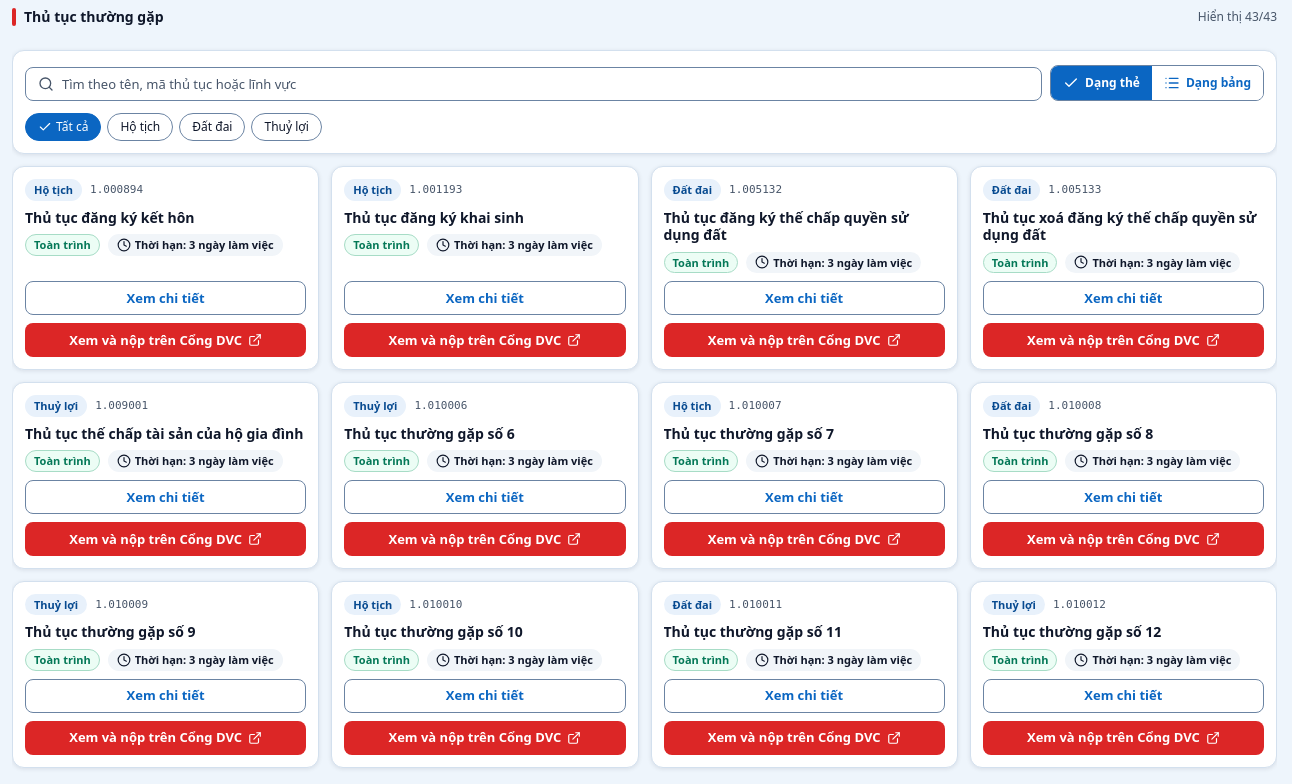
Test: KhoiThuongGap: tìm kiếm và chip › chọn chip "Đất đai" rồi gõ "the chap" → chỉ còn mục Đất đai có "thế chấp"; số đếm đổi (AC-2)
The width and height of the screenshot is (1292, 784).
Check: the heading "Thủ tục thường gặp" is shown, box [24,8,164,26]
Click the button "Đất đai": click(212, 127) [179,113,246,141]
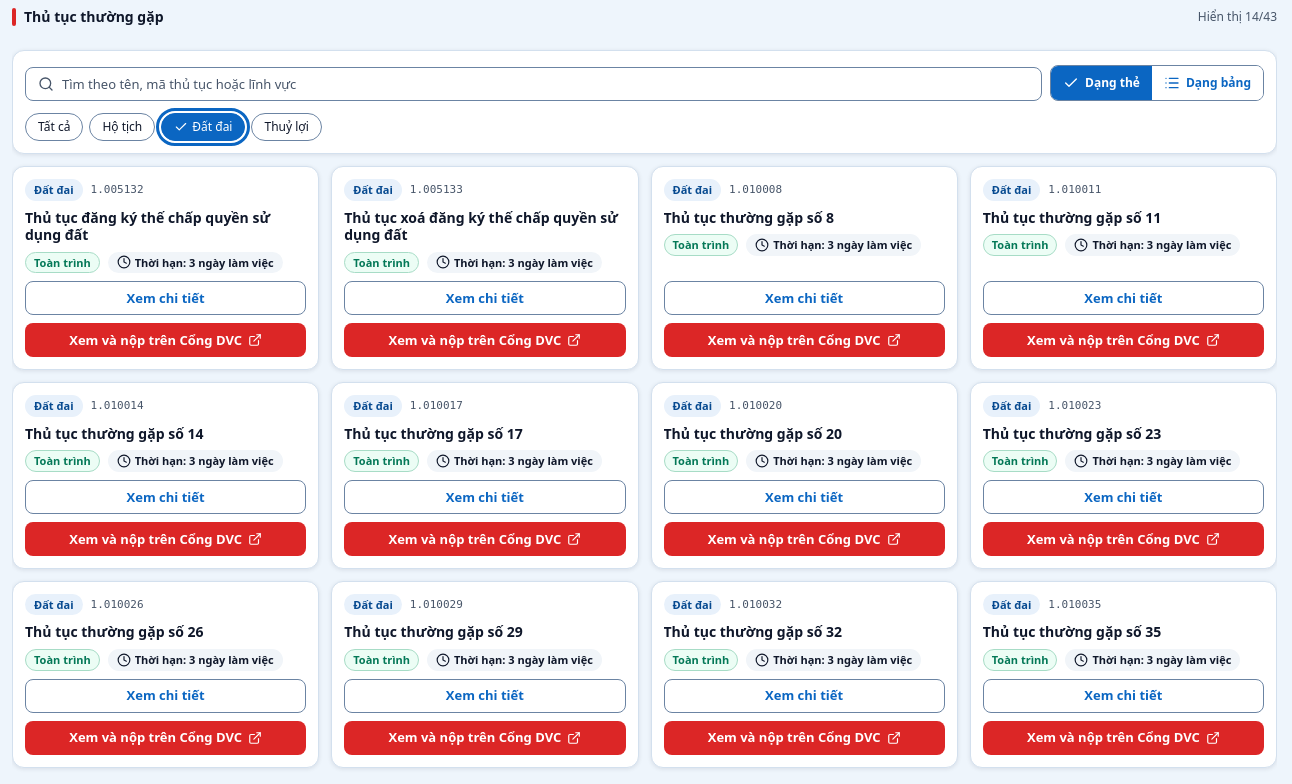
Click the search field labelled "Tìm theo tên, mã thủ tục hoặc lĩnh vực": click(534, 84) [26,68,1041,100]
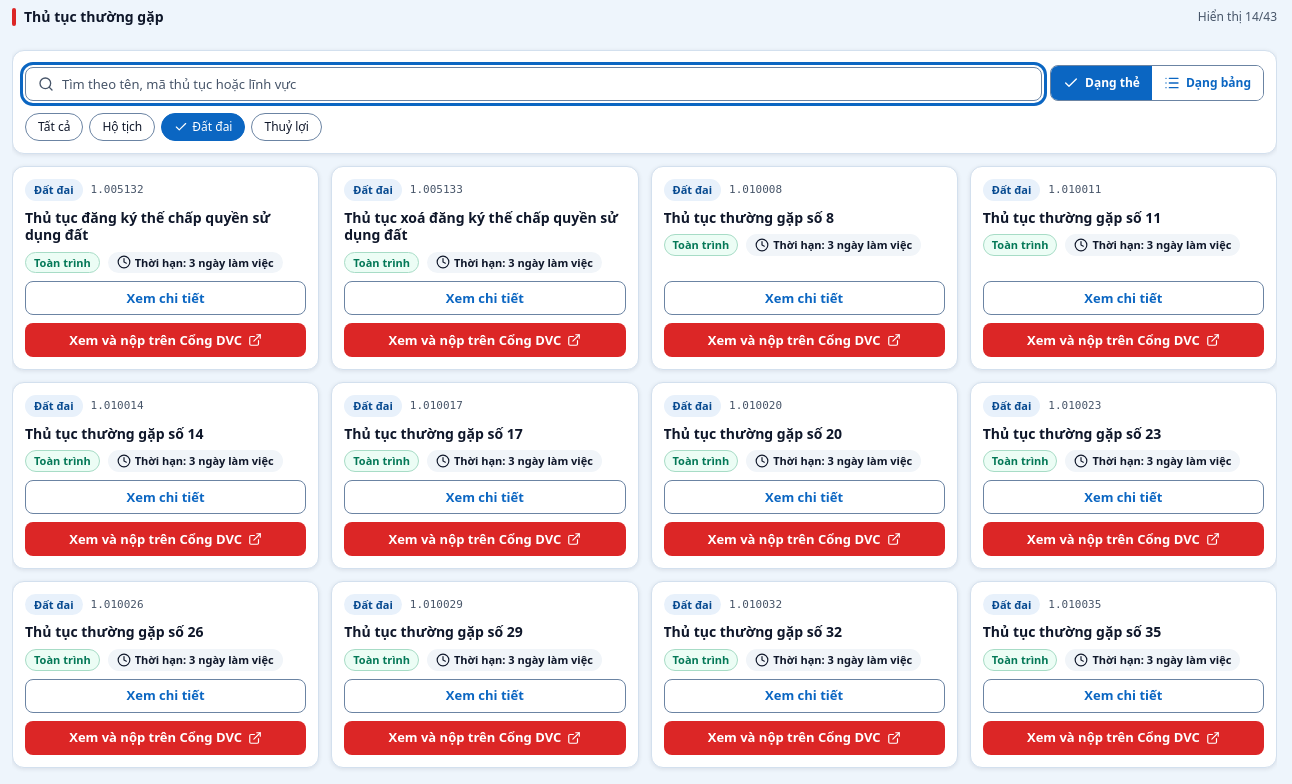
Type keys "the chap"
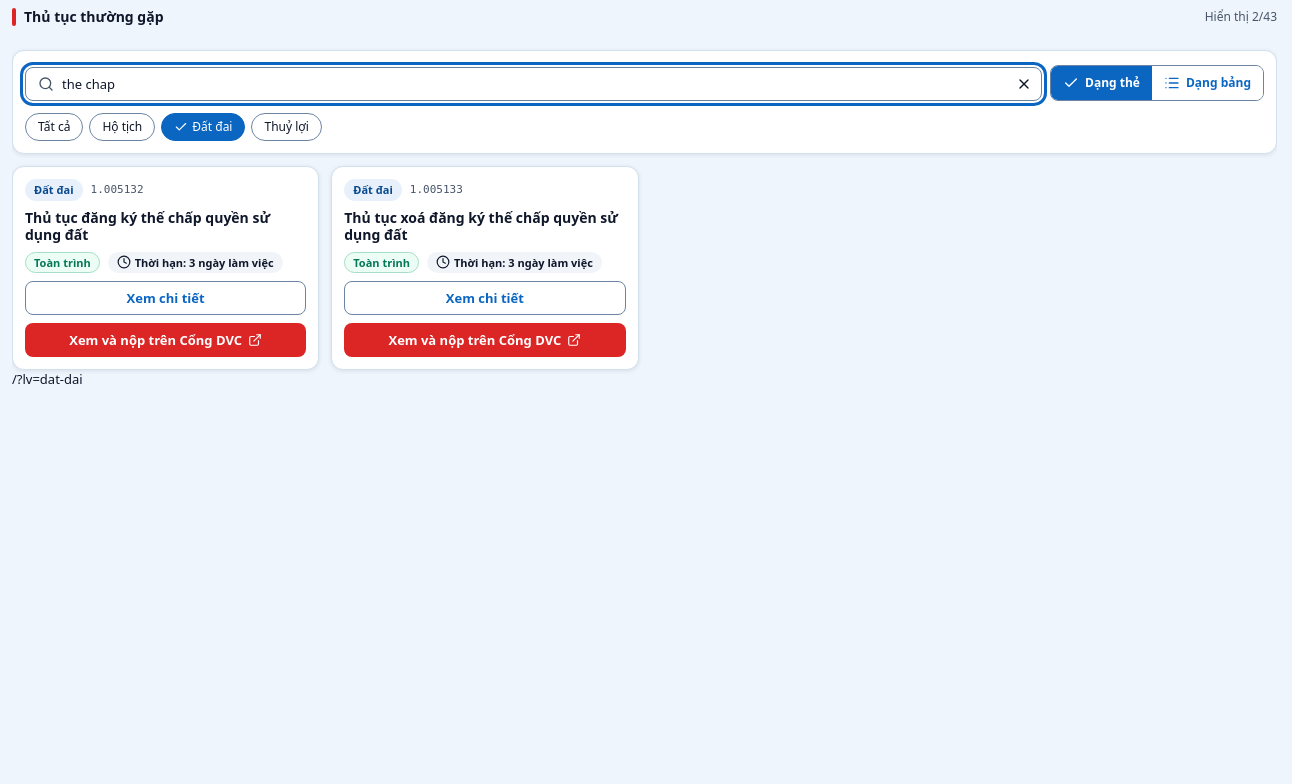
Check: the text "Hiển thị 2/43" is shown, box [1205,9,1277,25]
Click the button "Tất cả": click(54, 127) [25,113,83,141]
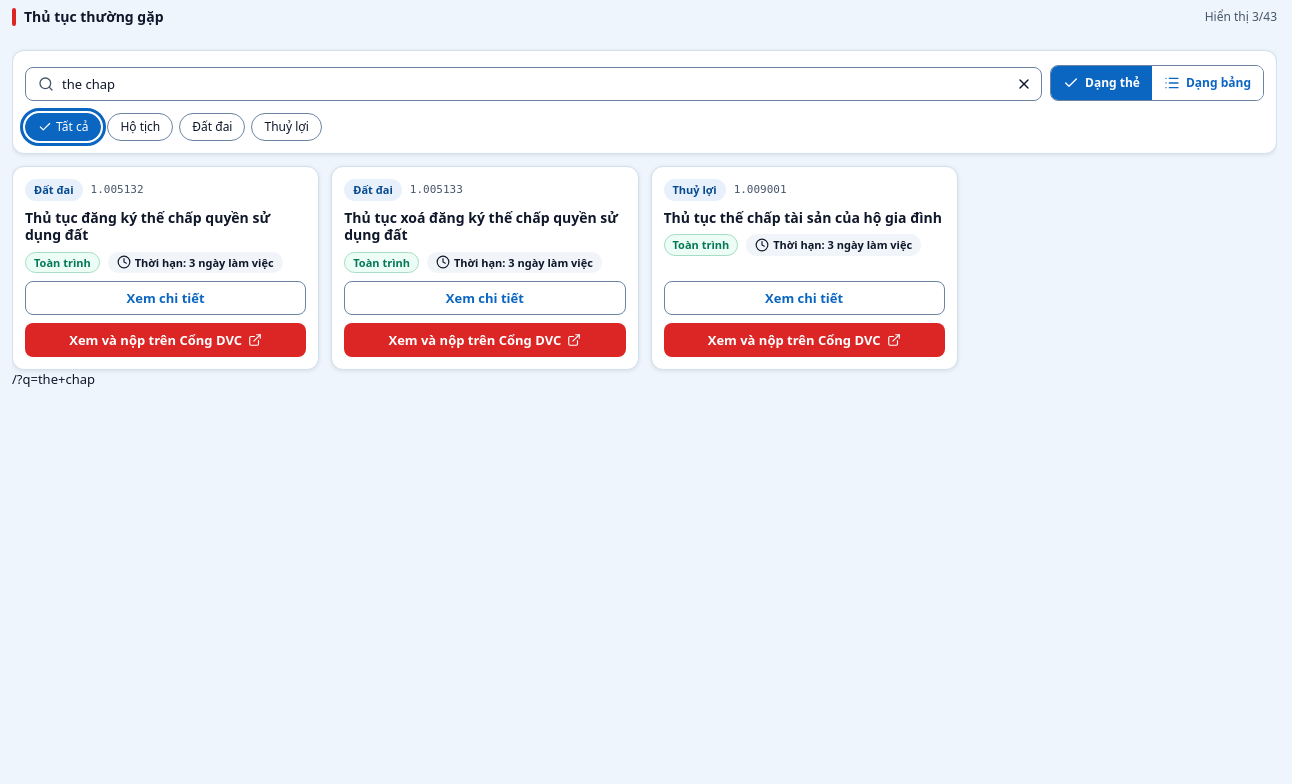
Check: the text "Hiển thị 3/43" is shown, box [1205,9,1277,25]
